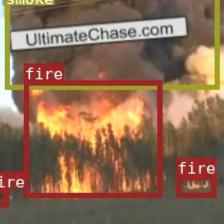fire: (23, 80, 161, 197), (176, 174, 215, 197), (0, 188, 8, 206)
smoke: (4, 0, 218, 88)
